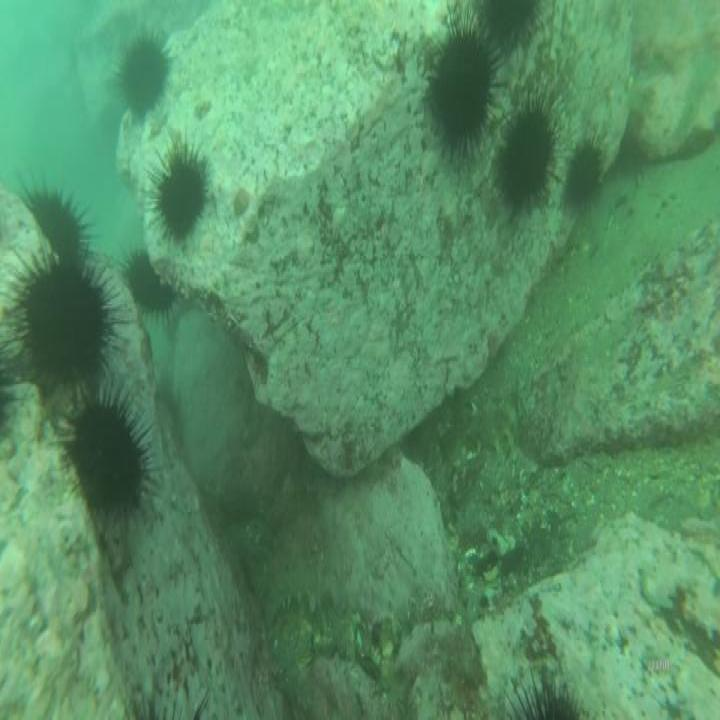echinus: (0, 260, 146, 406), (57, 369, 167, 538), (418, 11, 509, 169), (489, 94, 564, 236), (140, 126, 222, 254), (15, 172, 106, 274), (105, 25, 181, 128), (122, 238, 186, 326), (469, 0, 552, 62), (565, 123, 608, 217)
